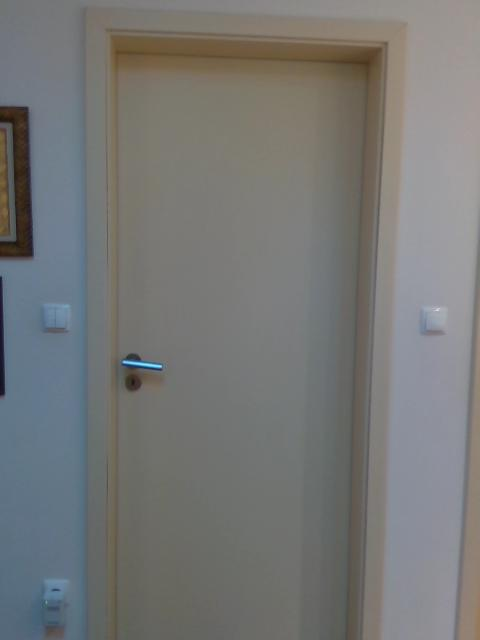door: (116, 55, 366, 640)
